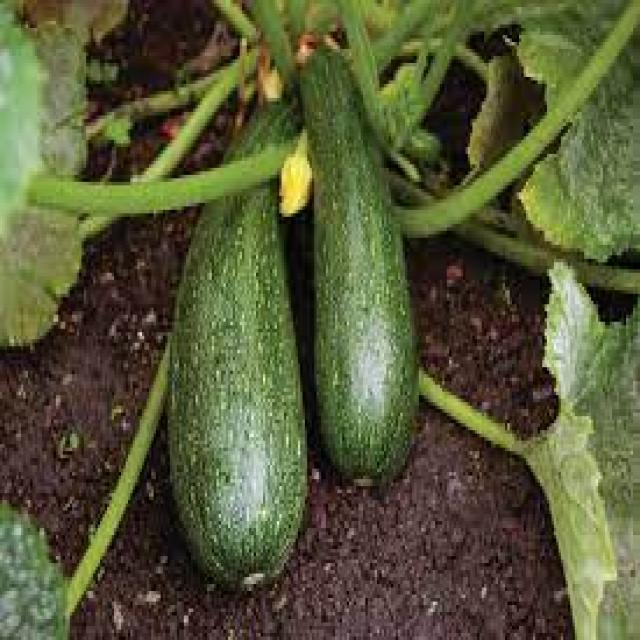Zucchini: (298, 49, 418, 480)
